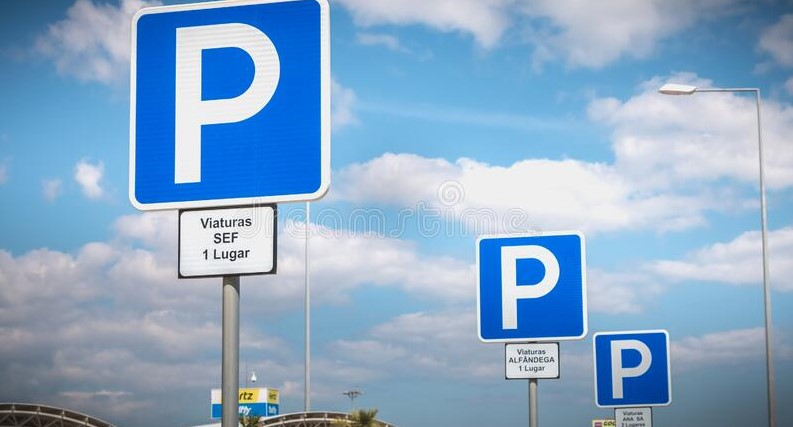Parking: (475, 230, 590, 345)
